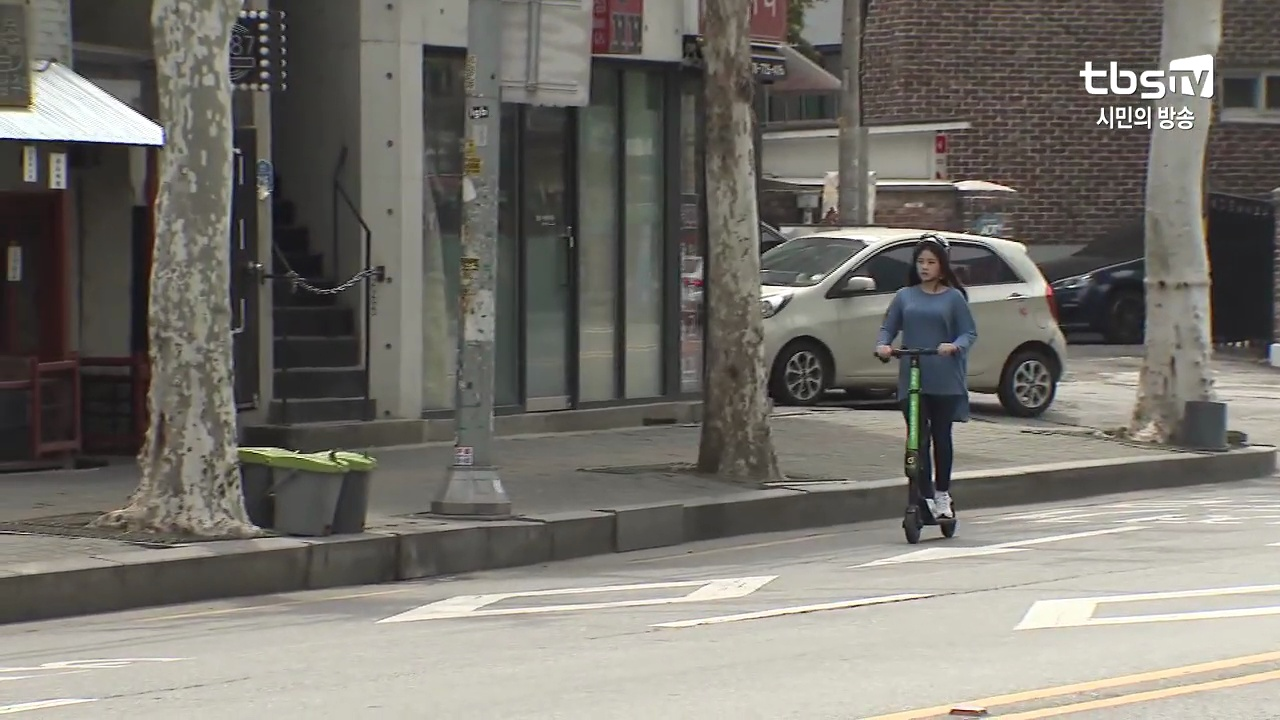helmet: (874, 230, 982, 546)
